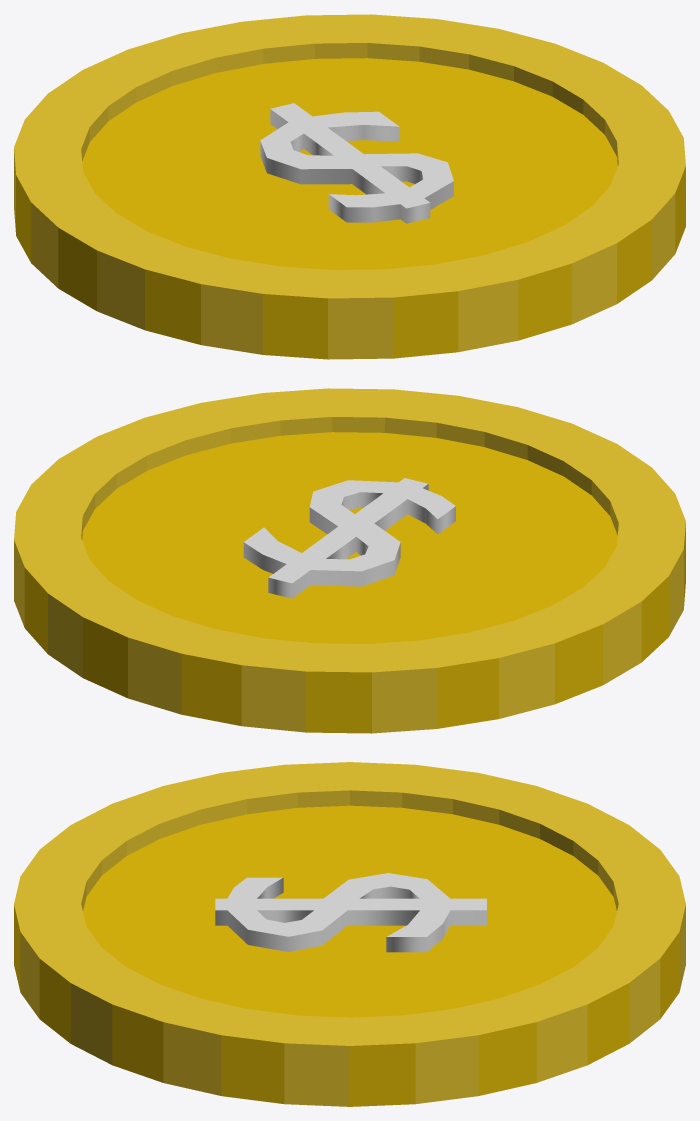
Rendered from money-coin.glb.
The picture shows the model from 3 angles, top to bottom: view 1: azimuth 30°, elevation 25°; view 2: azimuth 150°, elevation 25°; view 3: azimuth 270°, elevation 25°; orthographic projection.
Visible parts, largest first — view 1: Cylinder.001, $; view 2: Cylinder.001, $; view 3: Cylinder.001, $.
Boxes of the visible parts, box(x1,y1,x2,y2) form: Cylinder.001: box(14, 14, 685, 359); $: box(260, 103, 453, 223); Cylinder.001: box(14, 388, 685, 733); $: box(243, 478, 455, 598); Cylinder.001: box(14, 762, 685, 1106); $: box(215, 873, 486, 952).
Size of the model in its own units: 2 by 0.2 by 2.
2 materials, 1 textured.
